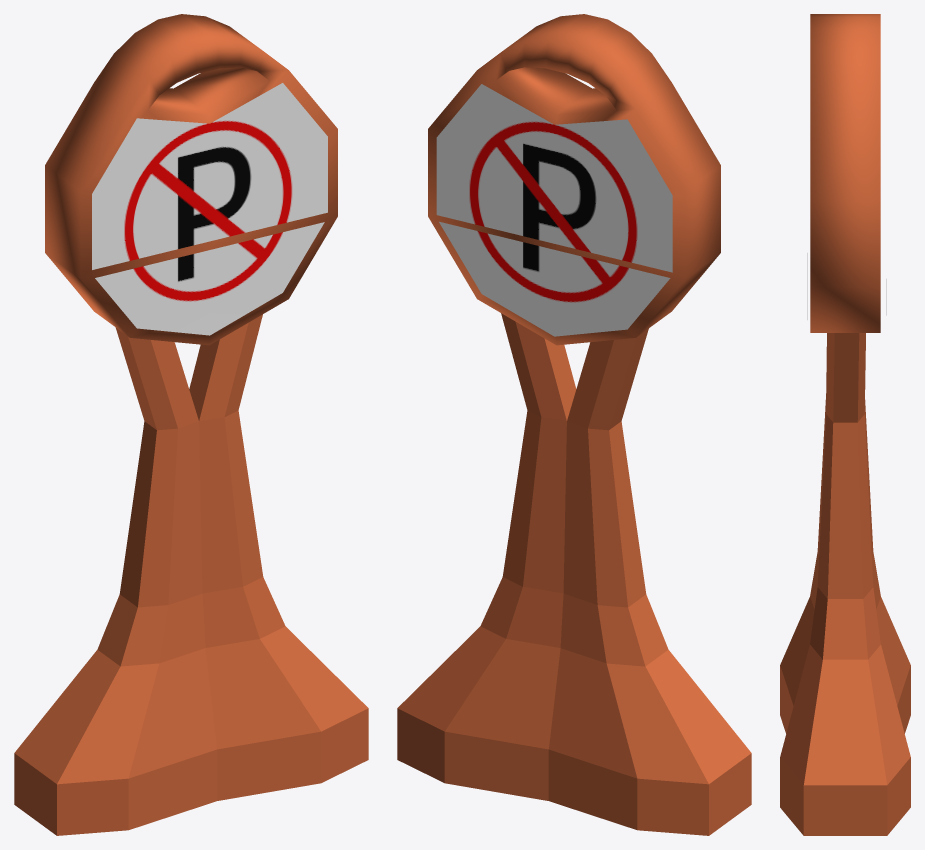
File: NonPark.fbx
3 views of the same model, side by side, from view 1: azimuth 30°, elevation 25°; view 2: azimuth 150°, elevation 25°; view 3: azimuth 270°, elevation 25° (orthographic). The views are drawn at different scales.
Visible parts, largest first — view 1: Cylinder.003; view 2: Cylinder.003; view 3: Cylinder.003.
Part boxes in pixels (x1=…): Cylinder.003: x1=14, y1=14, x2=368, y2=835; Cylinder.003: x1=397, y1=14, x2=751, y2=835; Cylinder.003: x1=780, y1=14, x2=910, y2=835.
Bounding box in the file's own units: 94.94 × 219 × 35.26.
Materials: 2 (1 with a texture image).
